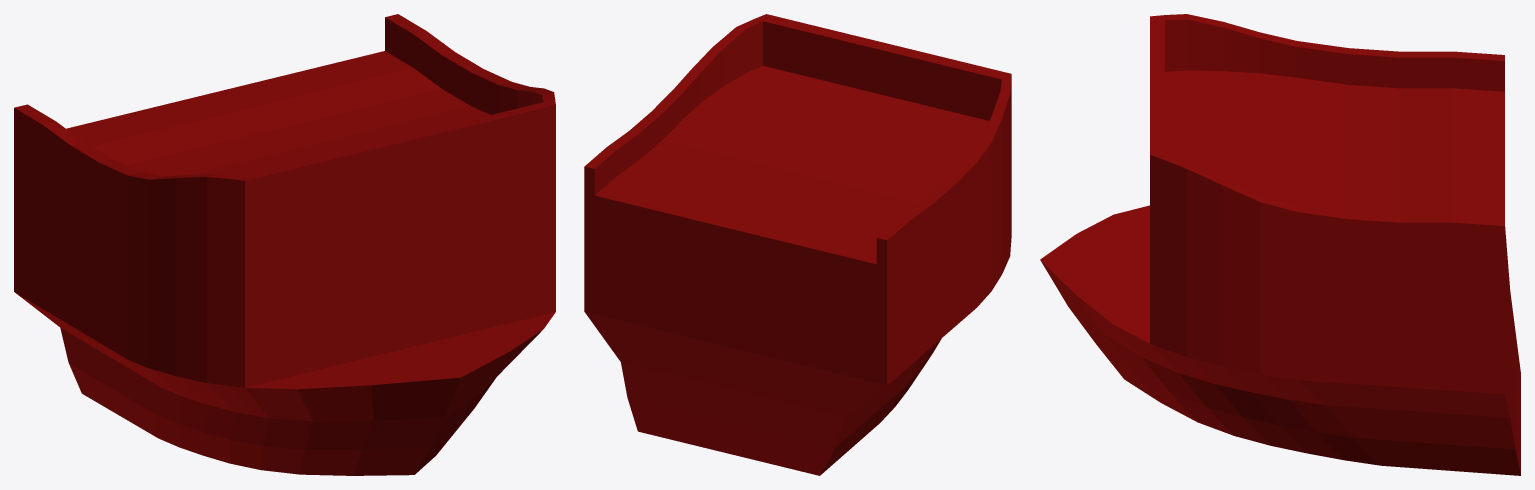
File: Rojo3.fbx
The picture shows the model from 3 angles, left to right: view 1: azimuth 30°, elevation 25°; view 2: azimuth 150°, elevation 25°; view 3: azimuth 270°, elevation 25°; orthographic projection. The views are drawn at different scales.
Visible parts, largest first — view 1: Proa_Rojo; view 2: Proa_Rojo; view 3: Proa_Rojo.
Part boxes in pixels (<box>): Proa_Rojo: <box>14,14,555,475</box>; Proa_Rojo: <box>584,14,1011,475</box>; Proa_Rojo: <box>1040,14,1520,475</box>.
Bounding box in the file's own units: 2.1 × 1.94 × 2.5.
